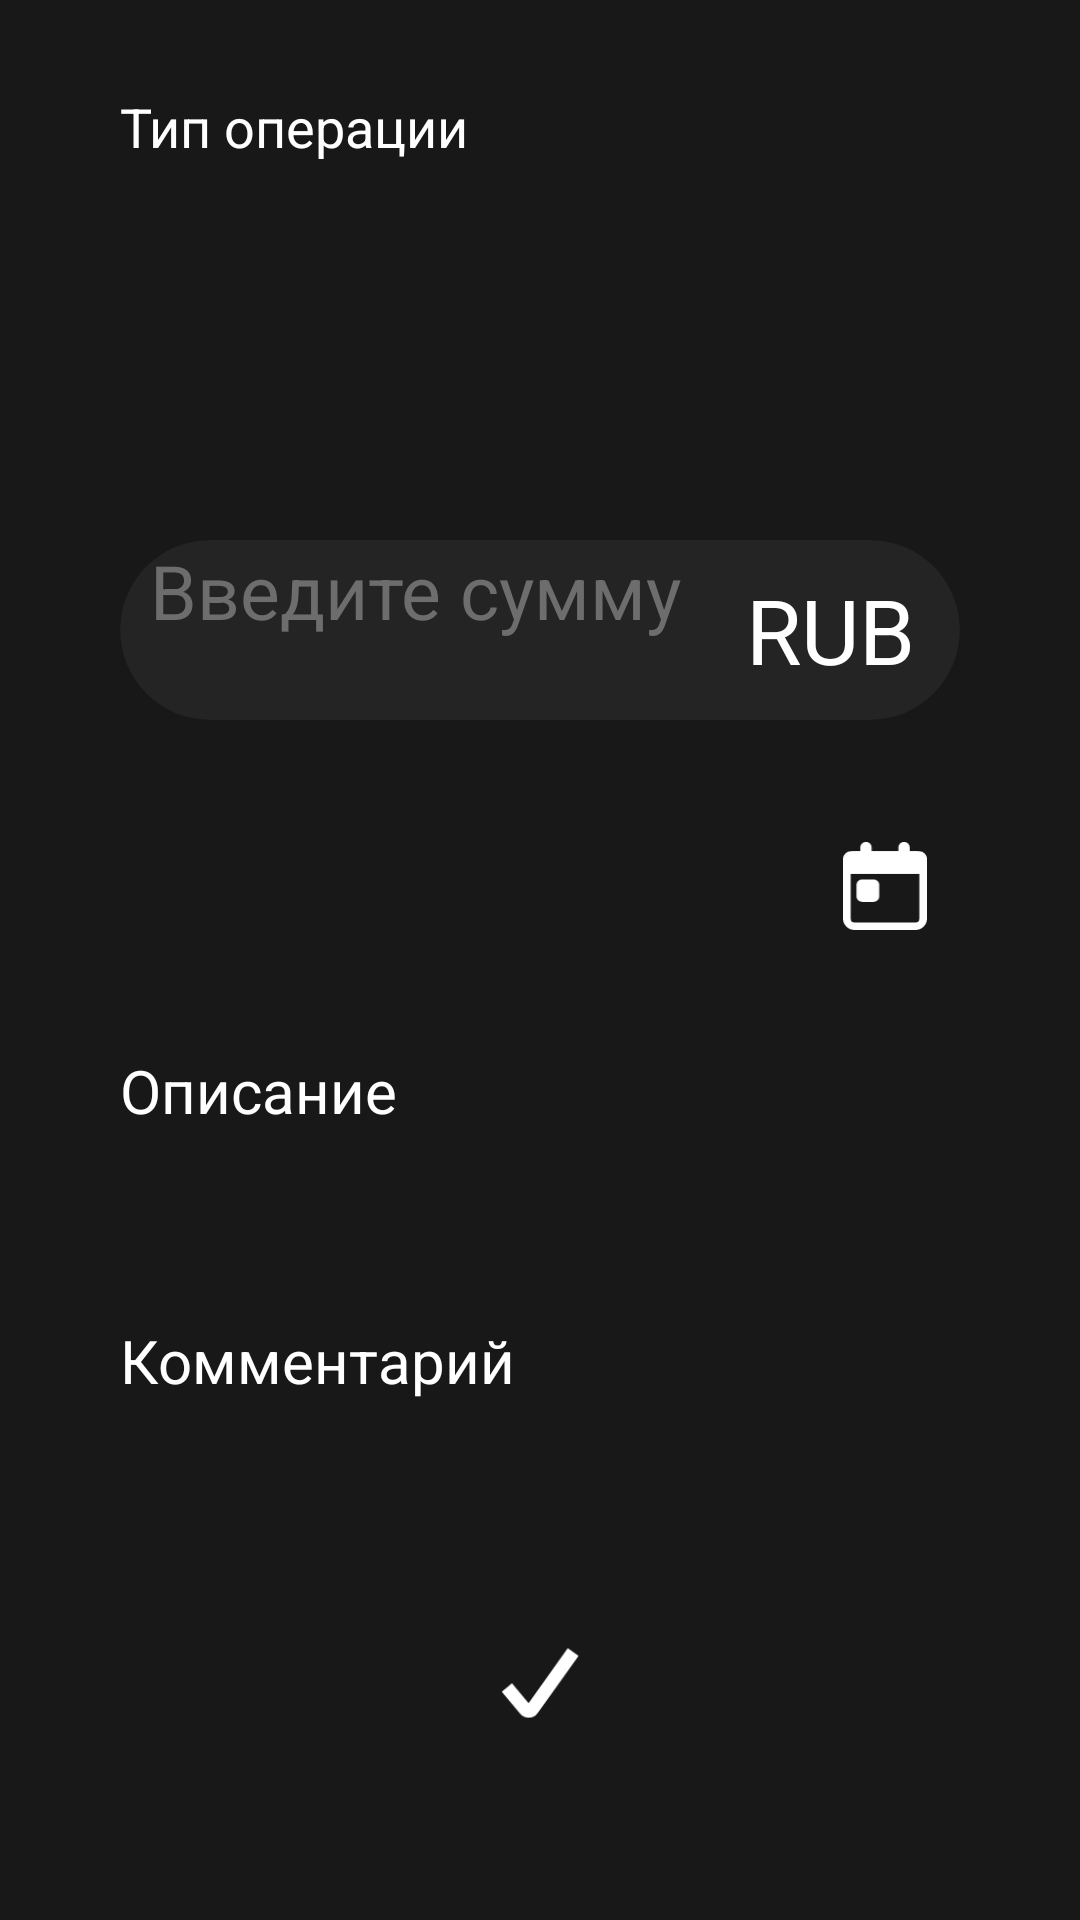

Icons on this 1080x1920 Android screen, each with the point to tap as point (x, y):
calendar: point (885, 886)
mark: point (540, 1683)
